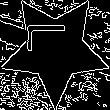L_E: (31, 34, 79, 65)
